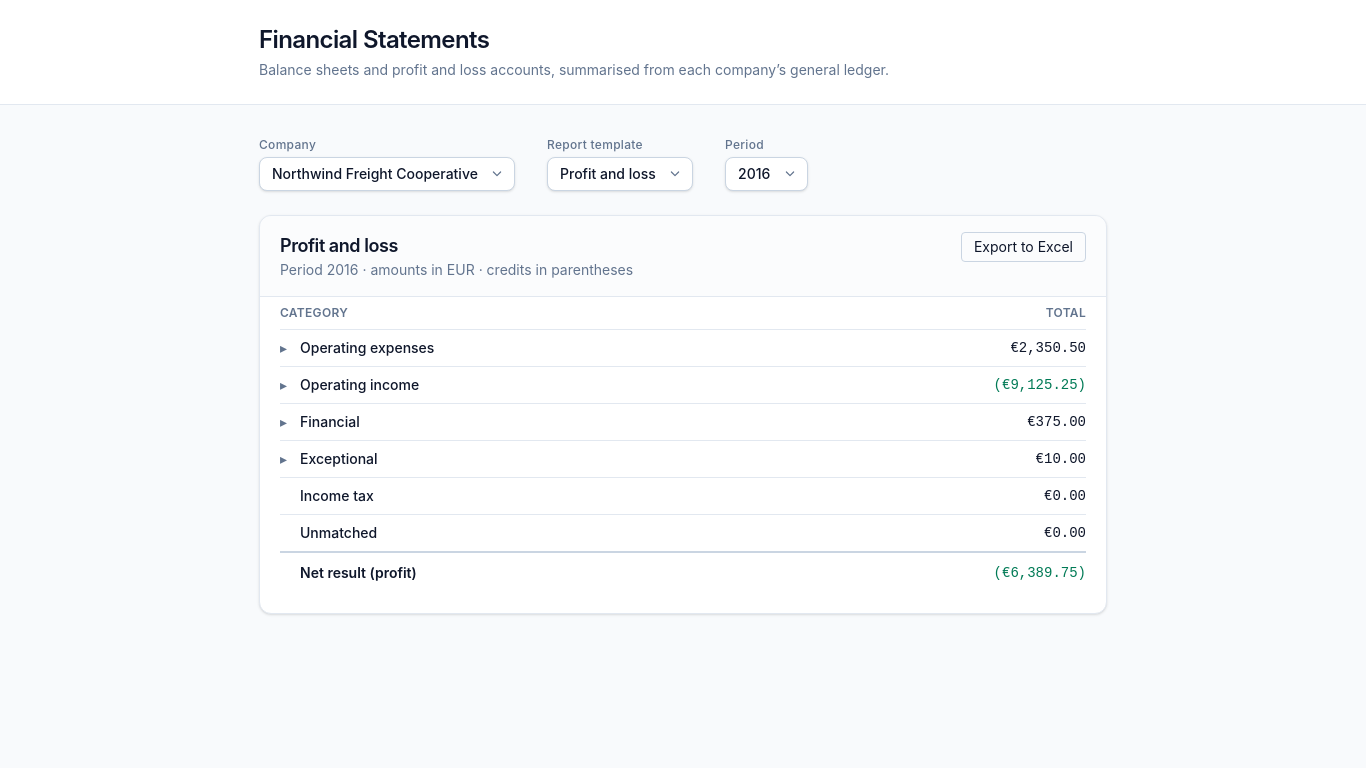
Scenario: a Category with nothing beneath it offers nothing to expand
The image size is (1366, 768).
Check: the row "Operating expenses €2,350.50" is shown, box [280,330,1086,366]
Click the button "Operating expenses": click(357, 348) [280,338,434,358]
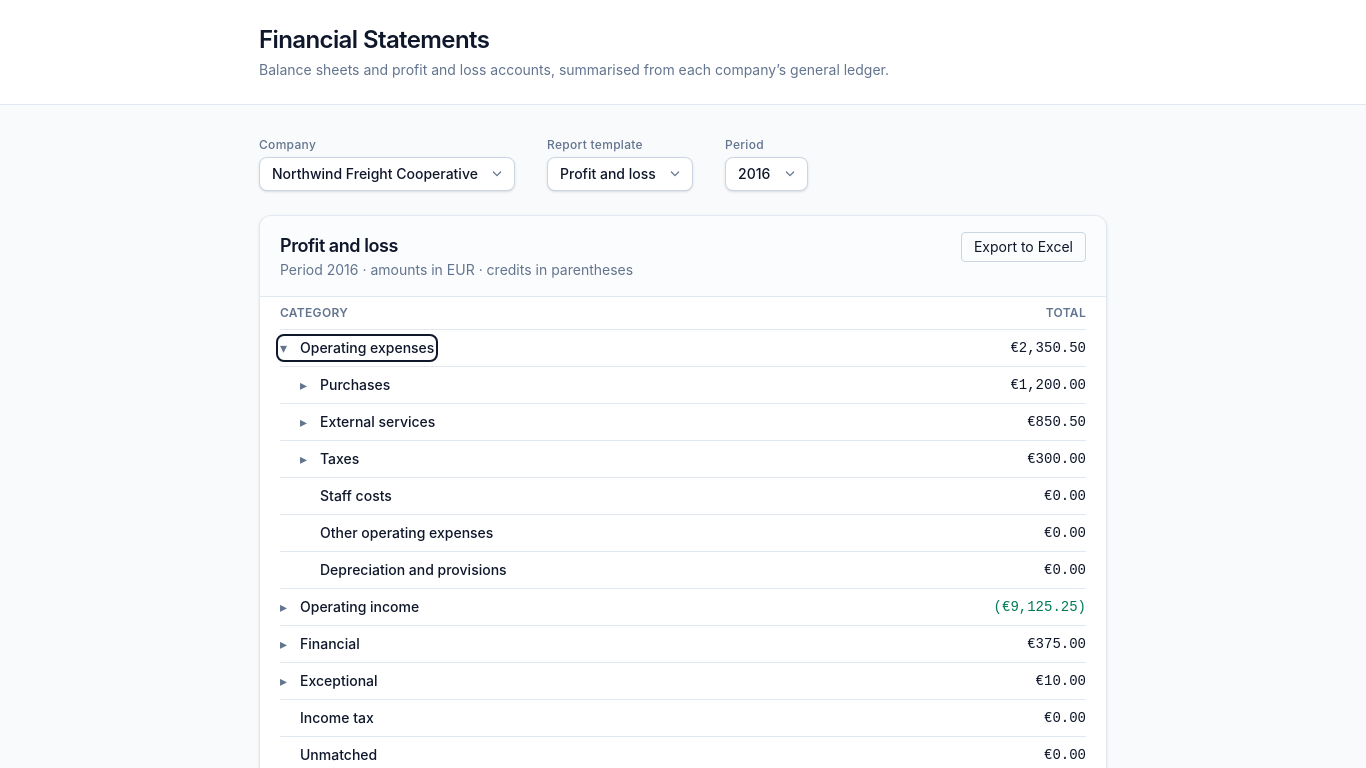
Check: the row "Staff costs €0.00" is shown, box [280,478,1086,514]
